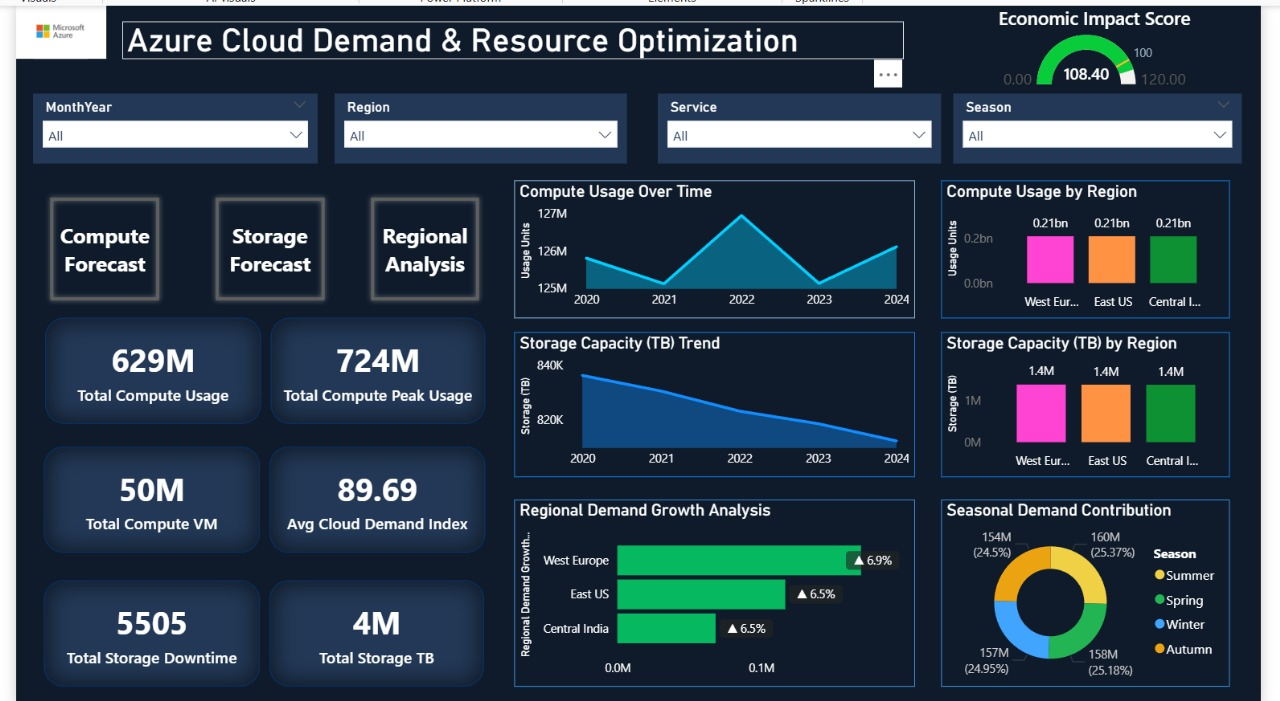

This screenshot's page, from the dashboard's own definition file:
{"tool":"powerbi","page":{"name":"Page 1","canvas":[1280,720],"ordinal":0},"visuals":[{"type":"slicer","fields":{"Values":["Gold_final.MonthYear"]},"box":[17,90.7,292.9,71.8],"z":0},{"type":"textbox","title":"Azure Cloud Demand & Resource Optimization Dashboard","box":[49.1,17,788,37.8],"z":2000},{"type":"slicer","fields":{"Values":["Gold_final.region"]},"box":[326.9,90.7,300.5,71.8],"z":3000},{"type":"slicer","fields":{"Values":["Gold_final.service"]},"box":[659.5,90.7,291,71.8],"z":4000},{"type":"slicer","fields":{"Values":["Gold_final.season"]},"box":[963.8,90.7,296.7,71.8],"z":5000},{"type":"card","fields":{"Values":["Gold_final.Total Compute Usage"]},"box":[30.2,194.6,221.1,109.6],"z":7000},{"type":"card","fields":{"Values":["Gold_final.Total Storage TB"]},"box":[260.9,485.1,221.1,109.8],"z":8000},{"type":"card","fields":{"Values":["Gold_final.Total Compute VM"]},"box":[30.2,335.6,221.1,109.8],"z":9000},{"type":"card","fields":{"Values":["Gold_final.Total Compute Peak Usage"]},"box":[258.9,194.6,221.1,109.6],"z":10000},{"type":"card","fields":{"Values":["Gold_final.Avg Cloud Demand Index"]},"box":[259.3,335.6,221.1,109.8],"z":11000},{"type":"card","fields":{"Values":["Gold_final.Total Storage Downtime"]},"box":[30.2,486.7,221.1,109.8],"z":12000},{"type":"lineChart","title":"Compute Usage Over Time","fields":{"Category":["Gold_final.date.Variation.Date Hierarchy.Year","Gold_final.date.Variation.Date Hierarchy.Quarter","Gold_final.date.Variation.Date Hierarchy.Month","Gold_final.date.Variation.Date Hierarchy.Day"],"Y":["Sum(Gold_final.usage_units)"]},"box":[512.1,179.5,412,141.7],"z":13000},{"type":"lineChart","title":"Storage Capacity (TB) Trend","fields":{"Category":["Gold_final.date.Variation.Date Hierarchy.Year","Gold_final.date.Variation.Date Hierarchy.Quarter","Gold_final.date.Variation.Date Hierarchy.Month","Gold_final.date.Variation.Date Hierarchy.Day"],"Y":["Sum(Gold_final.storage_tb)"]},"box":[512.1,336.4,412,149.3],"z":14000},{"type":"clusteredColumnChart","title":"Compute Usage by Region","fields":{"Category":["Gold_final.region"],"Y":["Sum(Gold_final.usage_units)"]},"box":[950.6,179.5,296.7,141.7],"z":15000},{"type":"clusteredColumnChart","title":"Storage Capacity (TB) by Region","fields":{"Category":["Gold_final.region"],"Y":["Sum(Gold_final.storage_tb)"]},"box":[950.6,336.4,296.7,149.3],"z":16000},{"type":"donutChart","title":"Seasonal Demand Contribution","fields":{"Category":["Gold_final.season"],"Y":["Sum(Gold_final.demand_actual)"]},"box":[950.6,508.4,296.7,192.8],"z":17000},{"type":"clusteredBarChart","title":"Regional Demand Growth Analysis","fields":{"Category":["Gold_final.region"],"Y":["Gold_final.Latest Demand"]},"box":[512.1,508.4,412,192.8],"z":18000},{"type":"gauge","title":"Economic Impact Score","fields":{"TargetValue":["Gold_final.Economic Impact Target"],"Y":["Gold_final.Economic Impact Score"]},"box":[1060,0,220,90],"z":19000}]}

Visuals, with their boxes on the page's 1280x720 design canvas (x1, y1, x2, y2). These are canvas units, not pixel positions in the 1280x701 screenshot, which may show the page scaled, cropped or inside an application window:
slicer - Gold_final.MonthYear: bbox=[17, 91, 310, 162]
"Azure Cloud Demand & Resource Optimization Dashboard" textbox: bbox=[49, 17, 837, 55]
slicer - Gold_final.region: bbox=[327, 91, 627, 162]
slicer - Gold_final.service: bbox=[660, 91, 950, 162]
slicer - Gold_final.season: bbox=[964, 91, 1260, 162]
card - Gold_final.Total Compute Usage: bbox=[30, 195, 251, 304]
card - Gold_final.Total Storage TB: bbox=[261, 485, 482, 595]
card - Gold_final.Total Compute VM: bbox=[30, 336, 251, 445]
card - Gold_final.Total Compute Peak Usage: bbox=[259, 195, 480, 304]
card - Gold_final.Avg Cloud Demand Index: bbox=[259, 336, 480, 445]
card - Gold_final.Total Storage Downtime: bbox=[30, 487, 251, 596]
"Compute Usage Over Time" lineChart: bbox=[512, 180, 924, 321]
"Storage Capacity (TB) Trend" lineChart: bbox=[512, 336, 924, 486]
"Compute Usage by Region" clusteredColumnChart: bbox=[951, 180, 1247, 321]
"Storage Capacity (TB) by Region" clusteredColumnChart: bbox=[951, 336, 1247, 486]
"Seasonal Demand Contribution" donutChart: bbox=[951, 508, 1247, 701]
"Regional Demand Growth Analysis" clusteredBarChart: bbox=[512, 508, 924, 701]
"Economic Impact Score" gauge: bbox=[1060, 0, 1280, 90]
